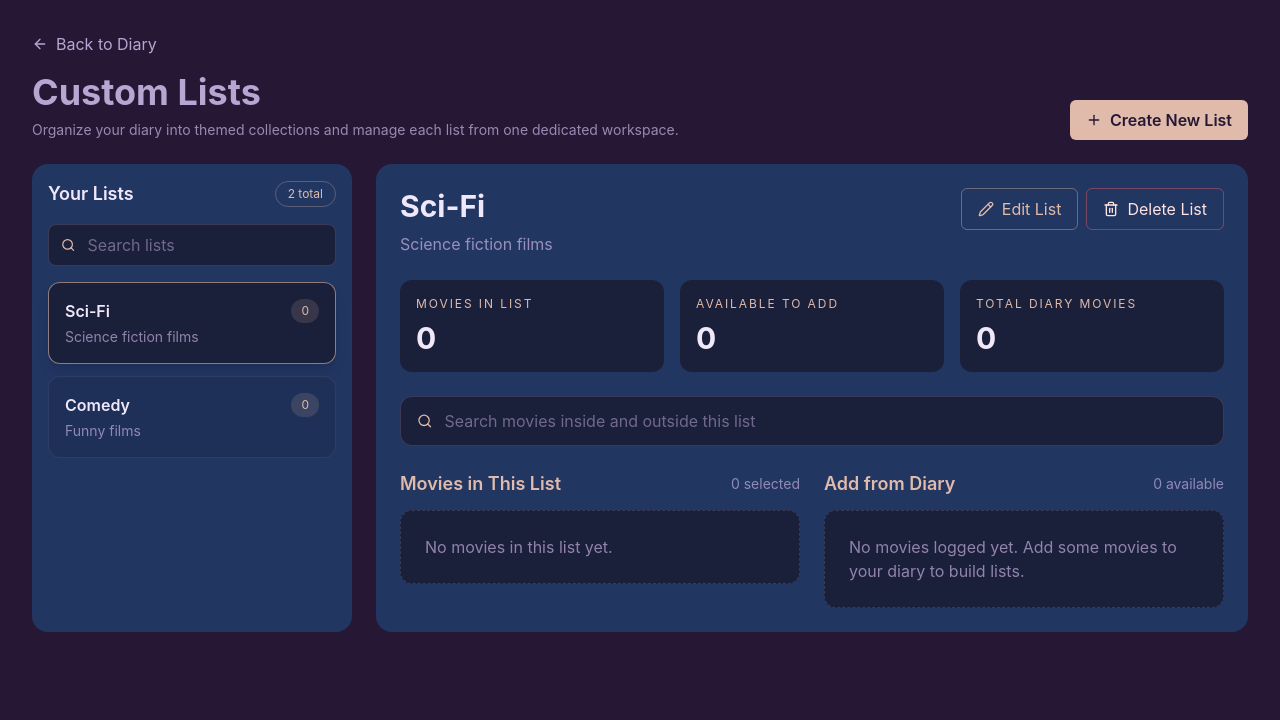
CustomLists › filters the list sidebar using the list search input
The width and height of the screenshot is (1280, 720).
Type "comedy" into the search field labelled "Search lists". click: (205, 245)
box: top-left (87, 233), bottom-right (323, 257)
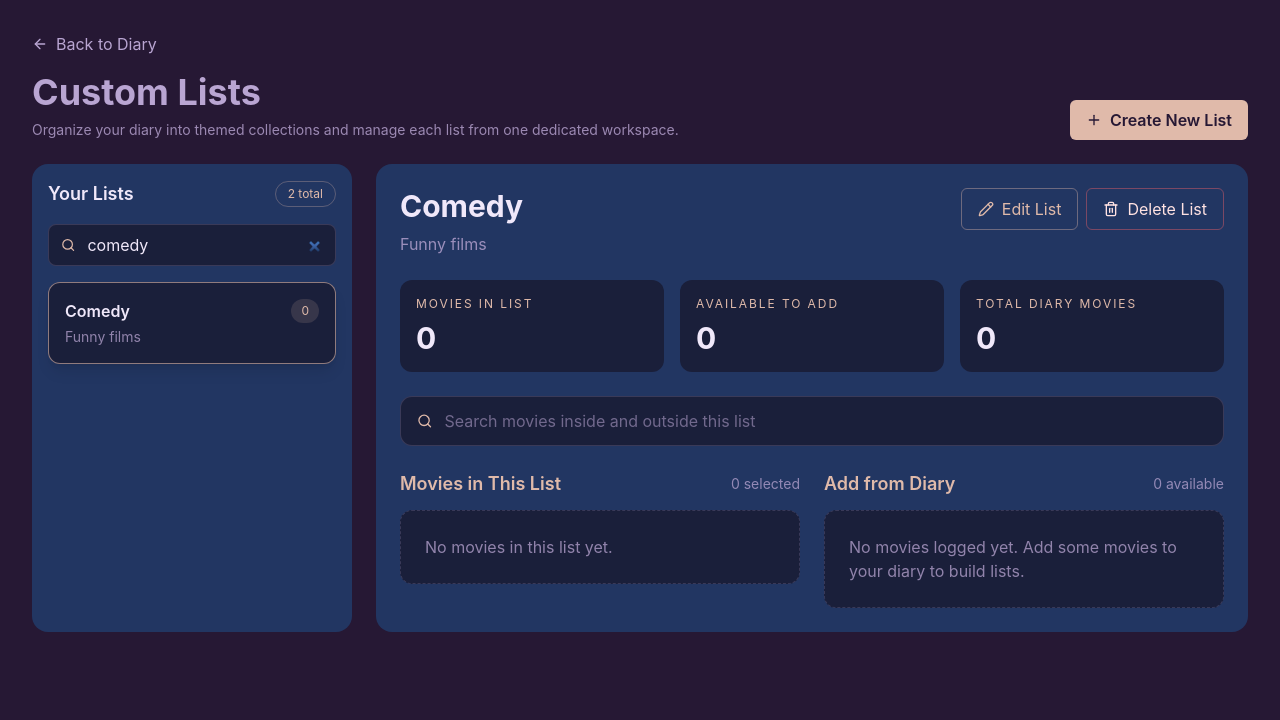
Expected: the button "Comedy Funny films 0" is shown, top-left (48, 282), bottom-right (336, 364)
Now the button "Sci-Fi Science fiction films" is gone
